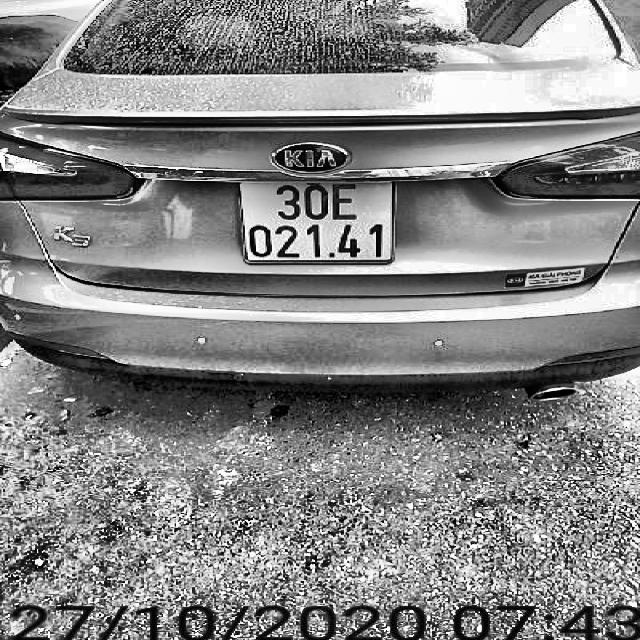plate: (220, 164, 404, 271)
